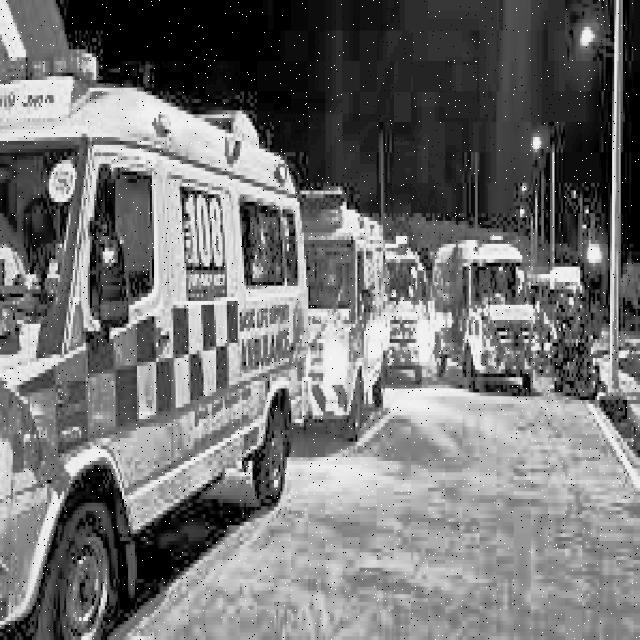Ambulance: (5, 46, 305, 598)
